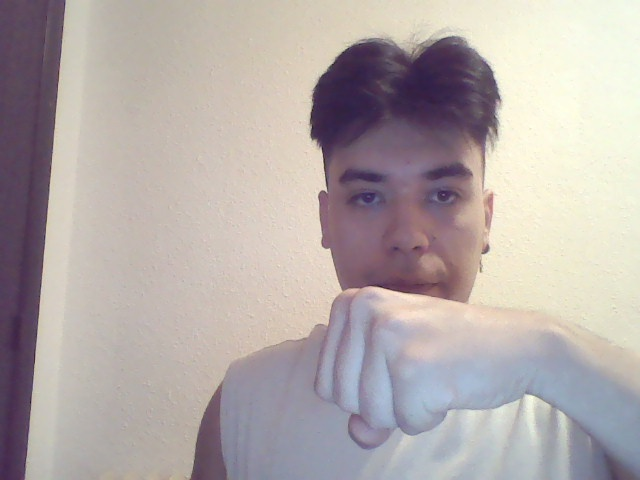Si: (313, 284, 583, 447)
